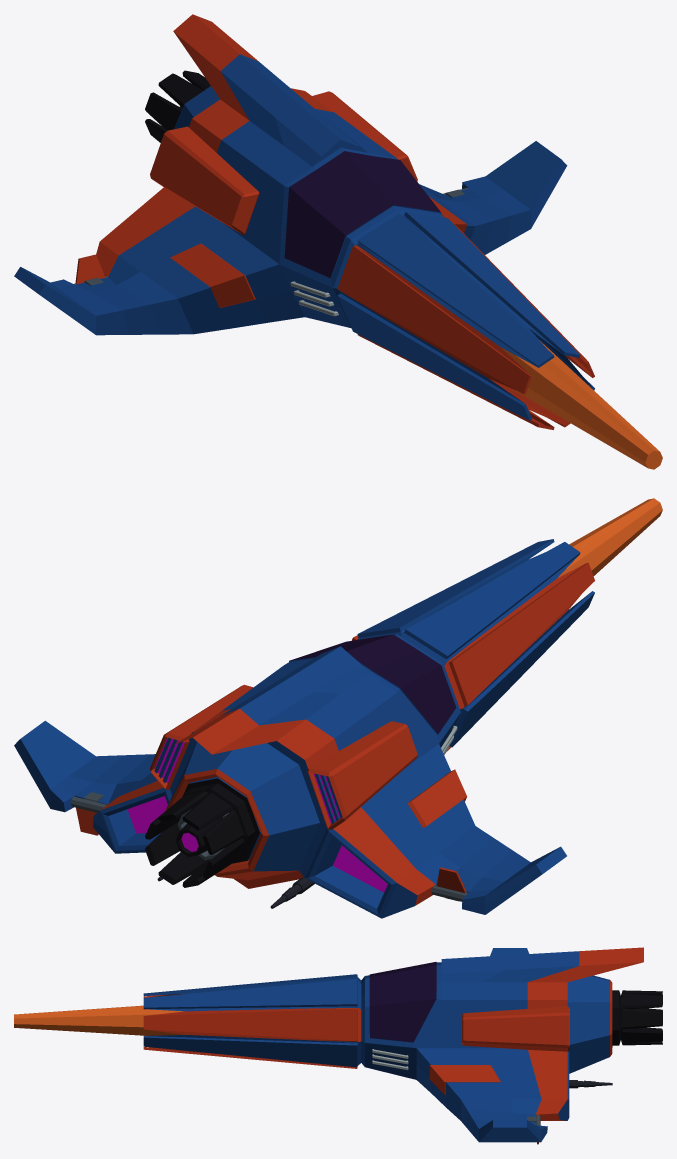
Rendered from LD50-Ship-01.glb.
The picture shows the model from 3 angles, top to bottom: view 1: azimuth 30°, elevation 25°; view 2: azimuth 150°, elevation 25°; view 3: azimuth 270°, elevation 25°; orthographic projection. The views are drawn at different scales.
Parts seen in each view (by area): view 1: 04.4-RIgged-Body, 04.4-RIgged-Engine-WIng-R-02, 04.4-RIgged-Engine-WIng-R-01; view 2: 04.4-RIgged-Body, 04.4-RIgged-Engine-WIng-R-02, 04.4-RIgged-Engine-WIng-R-01, 04.4-RIgged-Engine-WIng-L-04, 04.4-RIgged-Engine-WIng-L-03, 04.4-RIgged-Engine-WIng-R-03, 04.4-RIgged-Engine-WIng-L-01; view 3: 04.4-RIgged-Body, 04.4-RIgged-Engine-WIng-L-02, 04.4-RIgged-Engine-WIng-L-01, 04.4-RIgged-Engine-WIng-L-03.
Boxes of the visible parts, x1=… form: 04.4-RIgged-Body: x1=14, y1=14, x2=662, y2=469; 04.4-RIgged-Engine-WIng-R-02: x1=145, y1=92, x2=181, y2=130; 04.4-RIgged-Engine-WIng-R-01: x1=158, y1=73, x2=203, y2=107; 04.4-RIgged-Body: x1=14, y1=498, x2=662, y2=918; 04.4-RIgged-Engine-WIng-R-02: x1=203, y1=810, x2=243, y2=854; 04.4-RIgged-Engine-WIng-R-01: x1=182, y1=792, x2=232, y2=830; 04.4-RIgged-Engine-WIng-L-04: x1=158, y1=852, x2=208, y2=884; 04.4-RIgged-Engine-WIng-L-03: x1=145, y1=822, x2=179, y2=865; 04.4-RIgged-Engine-WIng-R-03: x1=203, y1=837, x2=243, y2=878; 04.4-RIgged-Engine-WIng-L-01: x1=158, y1=791, x2=208, y2=821; 04.4-RIgged-Body: x1=14, y1=947, x2=649, y2=1142; 04.4-RIgged-Engine-WIng-L-02: x1=621, y1=1008, x2=662, y2=1029; 04.4-RIgged-Engine-WIng-L-01: x1=621, y1=993, x2=662, y2=1009; 04.4-RIgged-Engine-WIng-L-03: x1=621, y1=1028, x2=662, y2=1043.
Size of the model in its own units: 4.1 by 1.46 by 6.39.
Materials: 6 (6 with a texture image).
